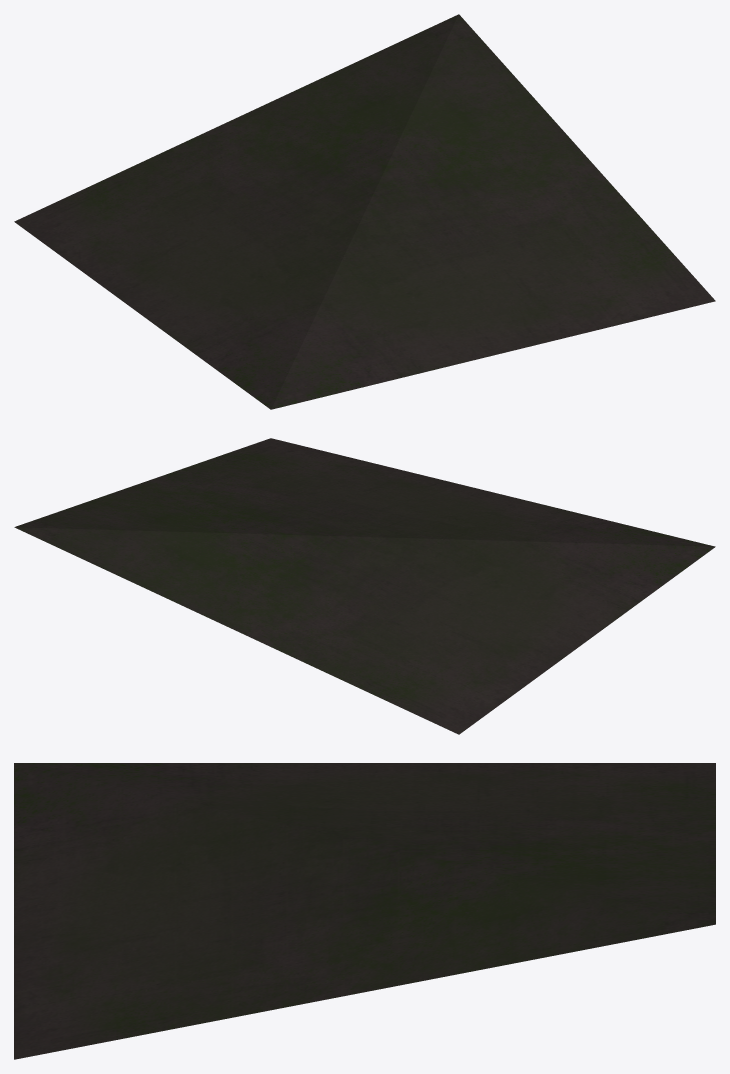
File: shrine_roof_04.fbx
3 renders of one model, top to bottom at view 1: azimuth 30°, elevation 25°; view 2: azimuth 150°, elevation 25°; view 3: azimuth 270°, elevation 25°, orthographic. The views are drawn at different scales.
Visible parts, largest first — view 1: shrine_roof_04; view 2: shrine_roof_04; view 3: shrine_roof_04.
Boxes of the visible parts, box(x1,y1,x2,y2) form: shrine_roof_04: box(14, 14, 715, 409); shrine_roof_04: box(14, 438, 715, 734); shrine_roof_04: box(14, 763, 715, 1059).
Bounding box in the file's own units: 330 × 70.14 × 330.
Materials: 1 (1 with a texture image).
